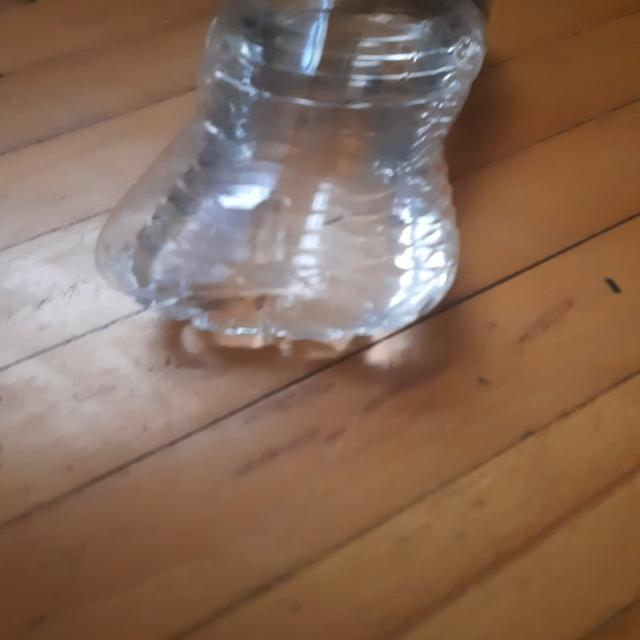Plastic: (94, 0, 491, 358)
